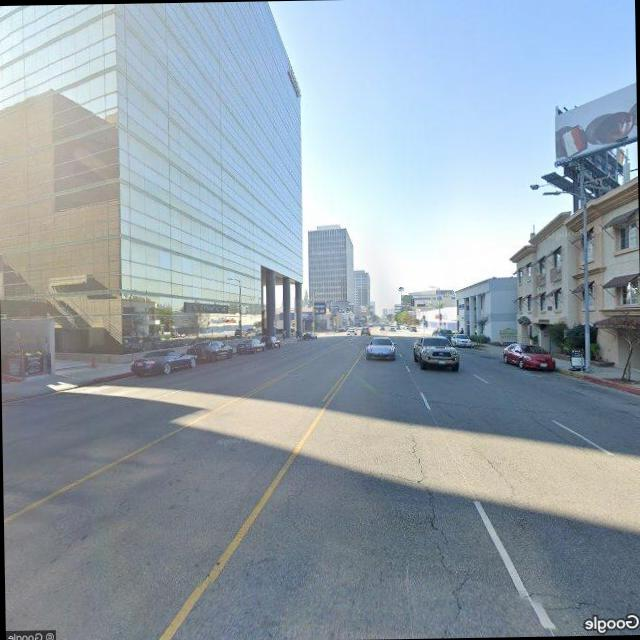pothole: (406, 420, 468, 636), (482, 450, 520, 504)
